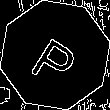P_NE: (26, 24, 84, 86)
